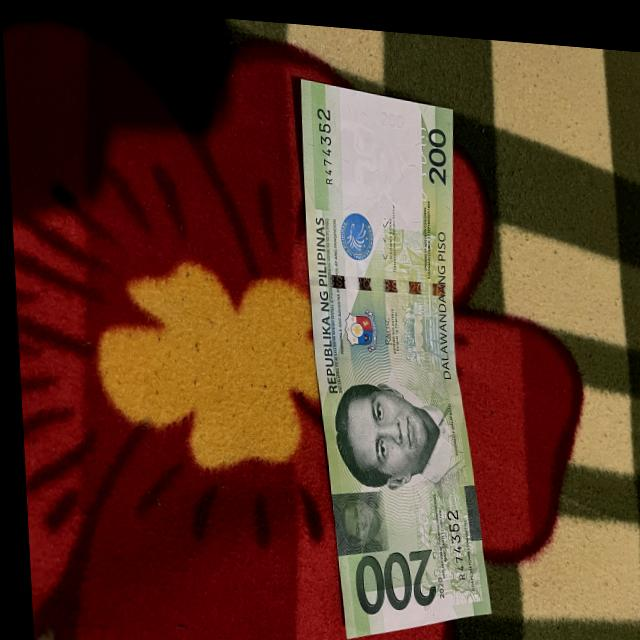concealed_value: (327, 481, 383, 554)
security_thread: (306, 268, 450, 290)
see_through_mark: (410, 116, 431, 197)
serial_number: (310, 92, 338, 190), (439, 500, 460, 575)
value: (347, 535, 432, 617)
watermark: (328, 91, 421, 220)
